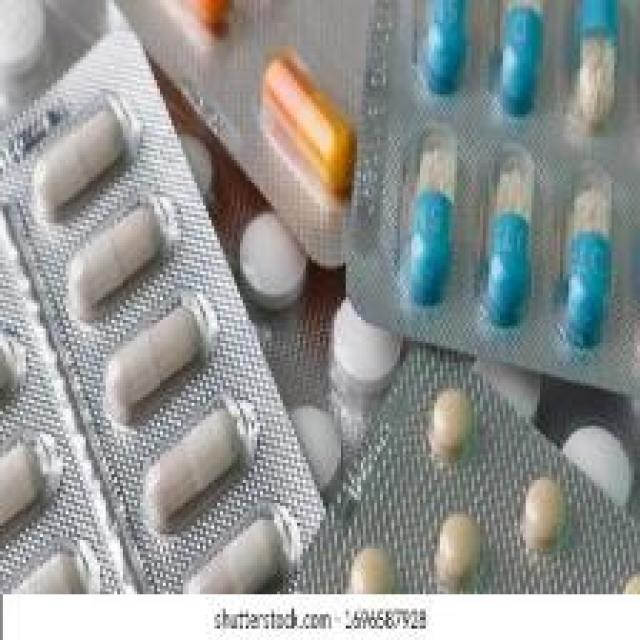Medicine: (0, 0, 640, 593)
